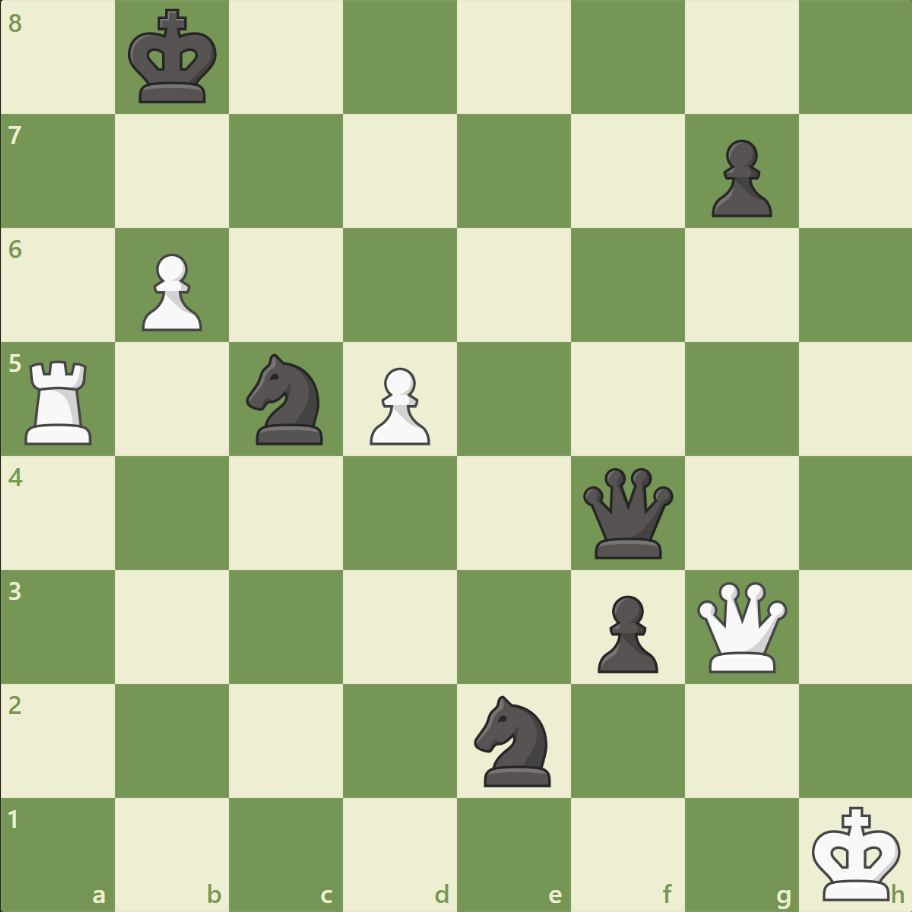K: (806, 798, 906, 906)
P: (133, 246, 208, 337), (361, 359, 435, 450)
Q: (691, 576, 790, 676)
R: (19, 352, 102, 449)
k: (124, 4, 224, 112)
n: (465, 688, 562, 791), (238, 348, 335, 450)
p: (701, 132, 776, 223), (588, 586, 662, 677)
q: (578, 463, 677, 562)
